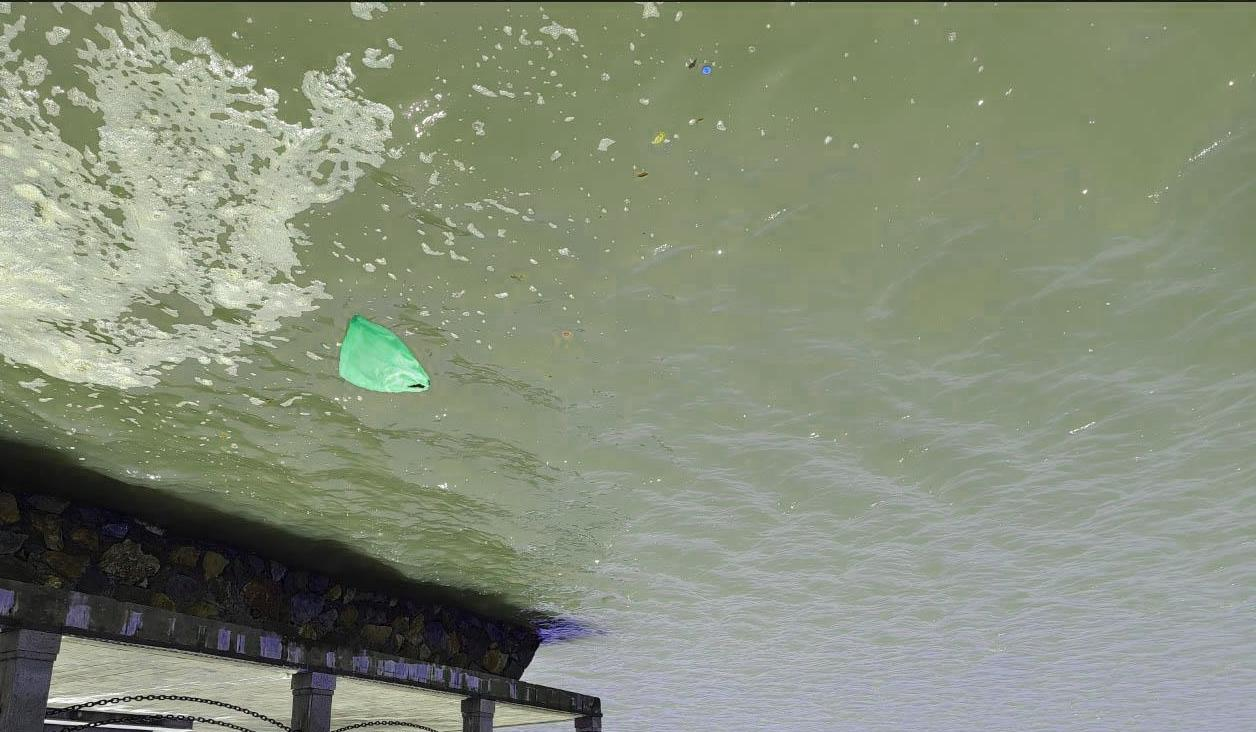Trash: (336, 314, 434, 397)
